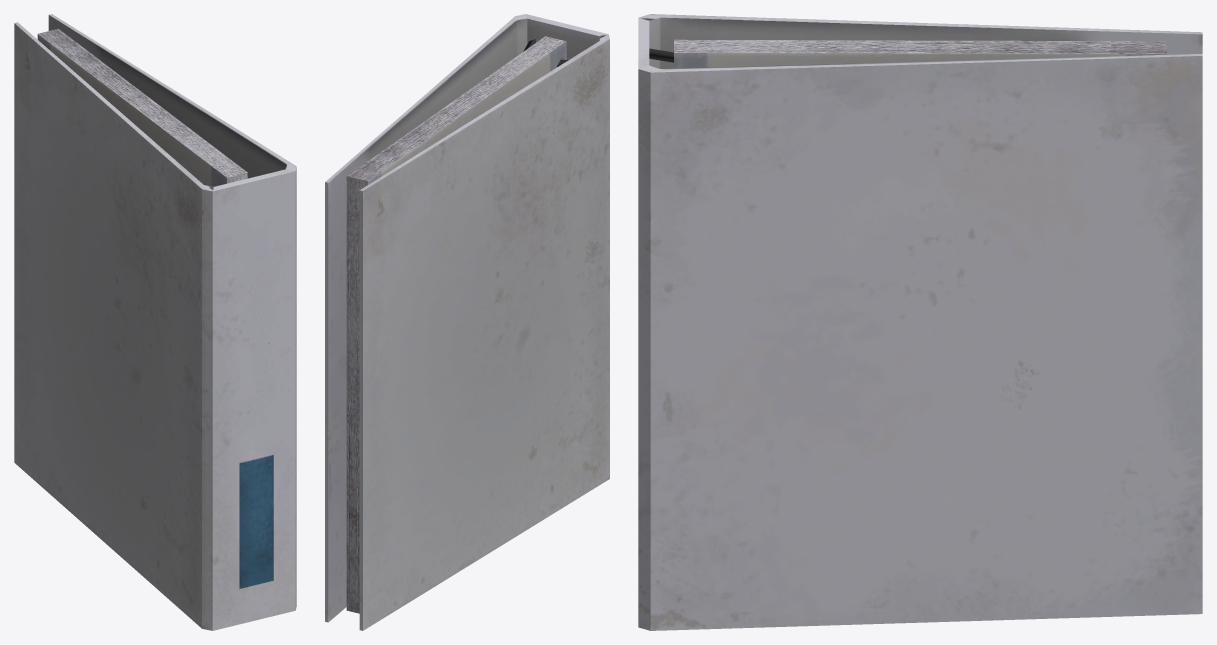
The model's file is binder_manual.DAE.
3 views of the same model, side by side, from view 1: azimuth 30°, elevation 25°; view 2: azimuth 150°, elevation 25°; view 3: azimuth 270°, elevation 25° (orthographic). The views are drawn at different scales.
Visible parts, largest first — view 1: binder_manual; view 2: binder_manual; view 3: binder_manual.
Boxes of the visible parts, x1=… form: binder_manual: x1=14, y1=14, x2=296, y2=630; binder_manual: x1=325, y1=14, x2=609, y2=630; binder_manual: x1=638, y1=14, x2=1202, y2=630.
Size of the model in its own units: 0.0661 by 0.2935 by 0.2689.
